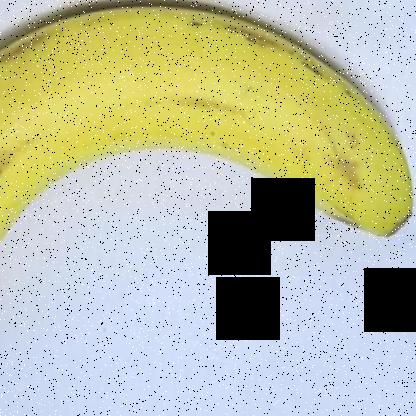freshripe: (1, 1, 415, 280)
